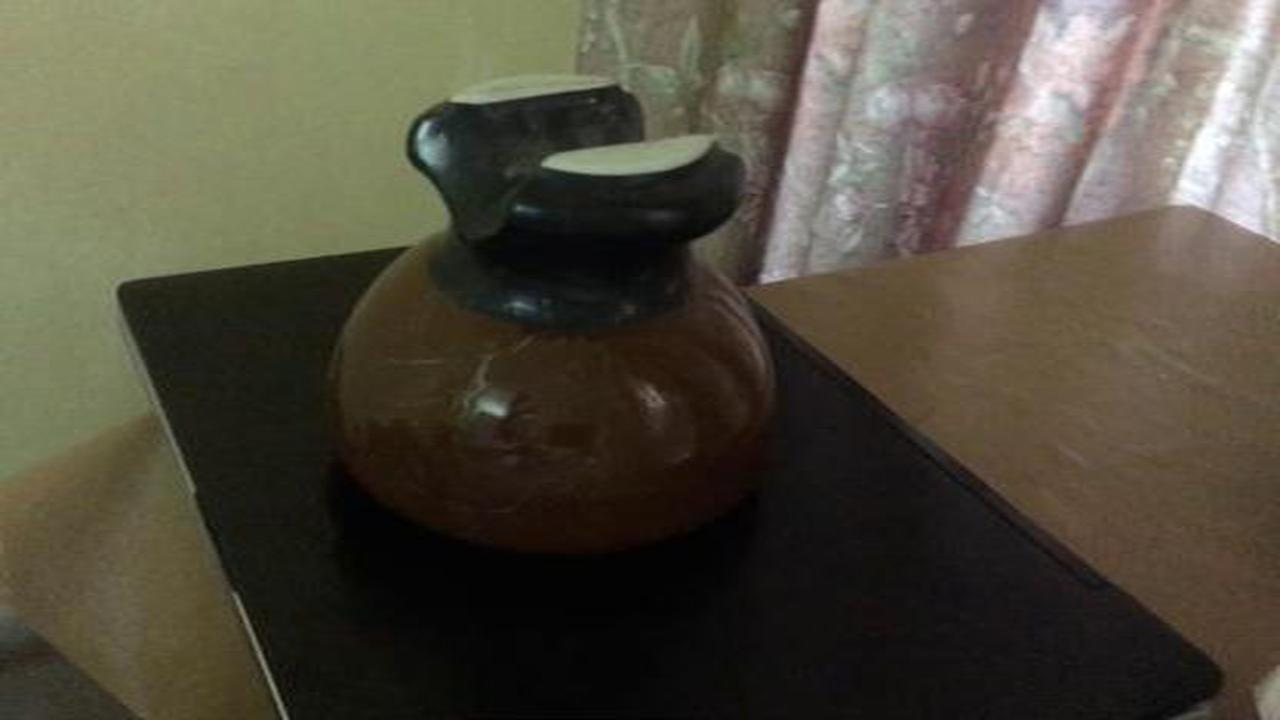insulator_pin: (290, 61, 816, 551)
